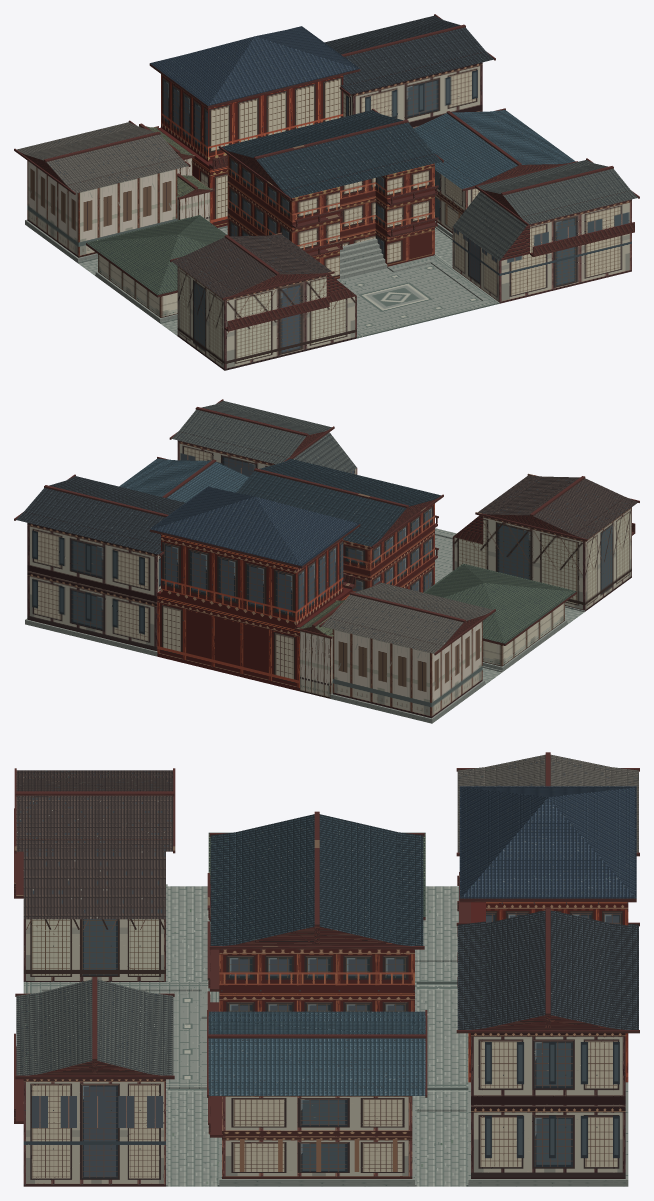
Rendered from combat_fight_arena_psx.glb.
The picture shows the model from 3 angles, top to bottom: view 1: azimuth 30°, elevation 25°; view 2: azimuth 150°, elevation 25°; view 3: azimuth 270°, elevation 25°; orthographic projection. The views are drawn at different scales.
Parts seen in each view (by area): view 1: Building_B1, Building_B2, Building_B7, Building_B3, Building_B9, Building_B6, Building_B5, Building_B4, Arena_Floor, Building_B8, Stairs, Street; view 2: Building_B7, Building_B6, Building_B9, Building_B3, Building_B1, Building_B2, Building_B4, Building_B5, Building_B8, Arena_Floor; view 3: Building_B6, Building_B1, Building_B5, Building_B3, Building_B2, Building_B7, Street, Building_B9, Arena_Floor.
Part boxes in pixels (box(x1,y1,x2,y2)): Building_B1: box(218, 108, 443, 279); Building_B2: box(452, 158, 639, 303); Building_B7: box(149, 26, 360, 227); Building_B3: box(170, 232, 356, 370); Building_B9: box(14, 120, 190, 262); Building_B6: box(324, 14, 495, 128); Building_B5: box(414, 108, 577, 237); Building_B4: box(86, 215, 226, 322); Arena_Floor: box(337, 255, 499, 338); Building_B8: box(139, 123, 215, 222); Stairs: box(340, 238, 387, 279); Street: box(78, 225, 452, 335); Building_B7: box(149, 486, 360, 691); Building_B6: box(14, 474, 185, 656); Building_B9: box(319, 581, 495, 723); Building_B3: box(452, 473, 639, 611); Building_B1: box(236, 457, 443, 592); Building_B2: box(169, 399, 357, 476); Building_B4: box(423, 563, 576, 671); Building_B5: box(119, 457, 248, 502); Building_B8: box(294, 599, 344, 698); Arena_Floor: box(435, 528, 456, 583); Building_B6: box(456, 908, 639, 1186); Building_B1: box(207, 811, 424, 1011); Building_B5: box(207, 1010, 427, 1186); Building_B3: box(14, 768, 175, 981); Building_B2: box(14, 977, 174, 1186); Building_B7: box(457, 786, 636, 1082); Street: box(166, 884, 468, 1186); Building_B9: box(456, 752, 639, 856); Arena_Floor: box(23, 982, 219, 1088).
Bounding box in the file's own units: 41.4 × 14.84 × 35.21.
Materials: 12 (12 with a texture image).
